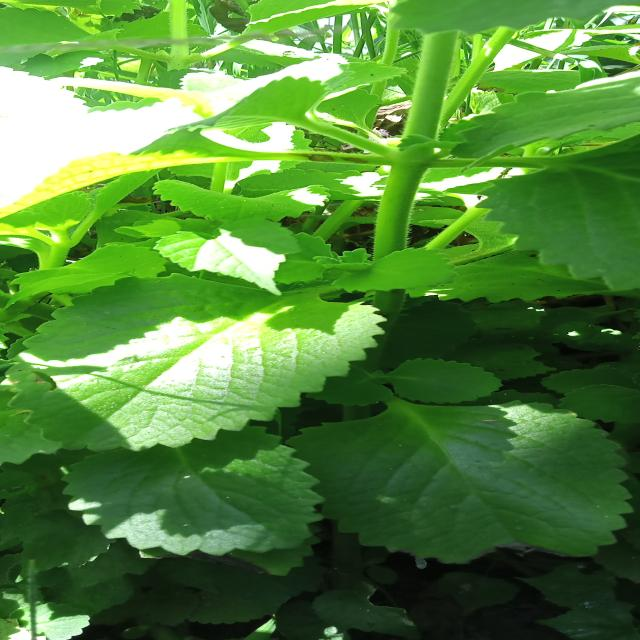Oregano: (127, 64, 640, 303), (226, 381, 640, 566), (0, 272, 423, 450), (32, 421, 370, 574), (312, 346, 541, 426)
